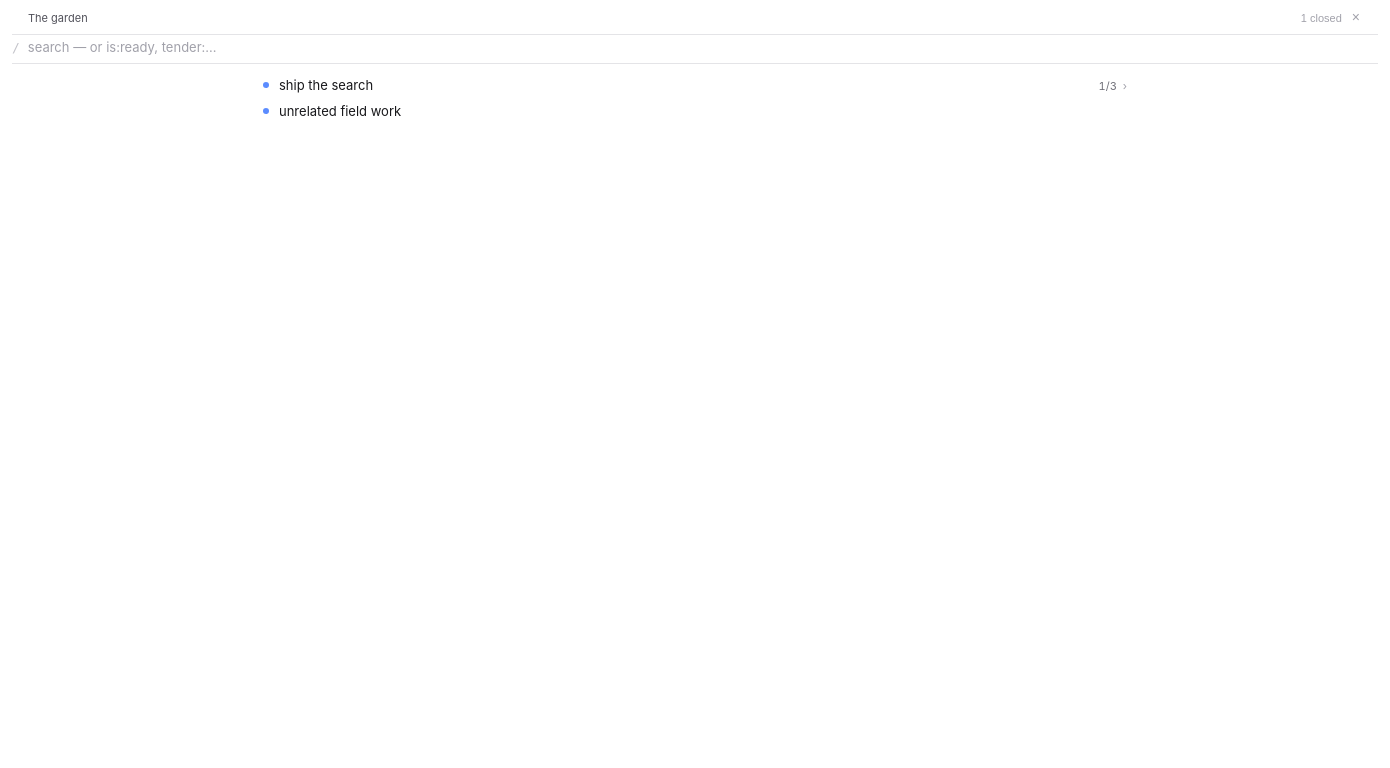
Test: GardenPanel search › scope › keeps the trail when the search widens out of the plot
The width and height of the screenshot is (1390, 768).
Click the button "ship the search 1/3 ›".
click(326, 85)  # box left=255, top=72, right=1135, bottom=98
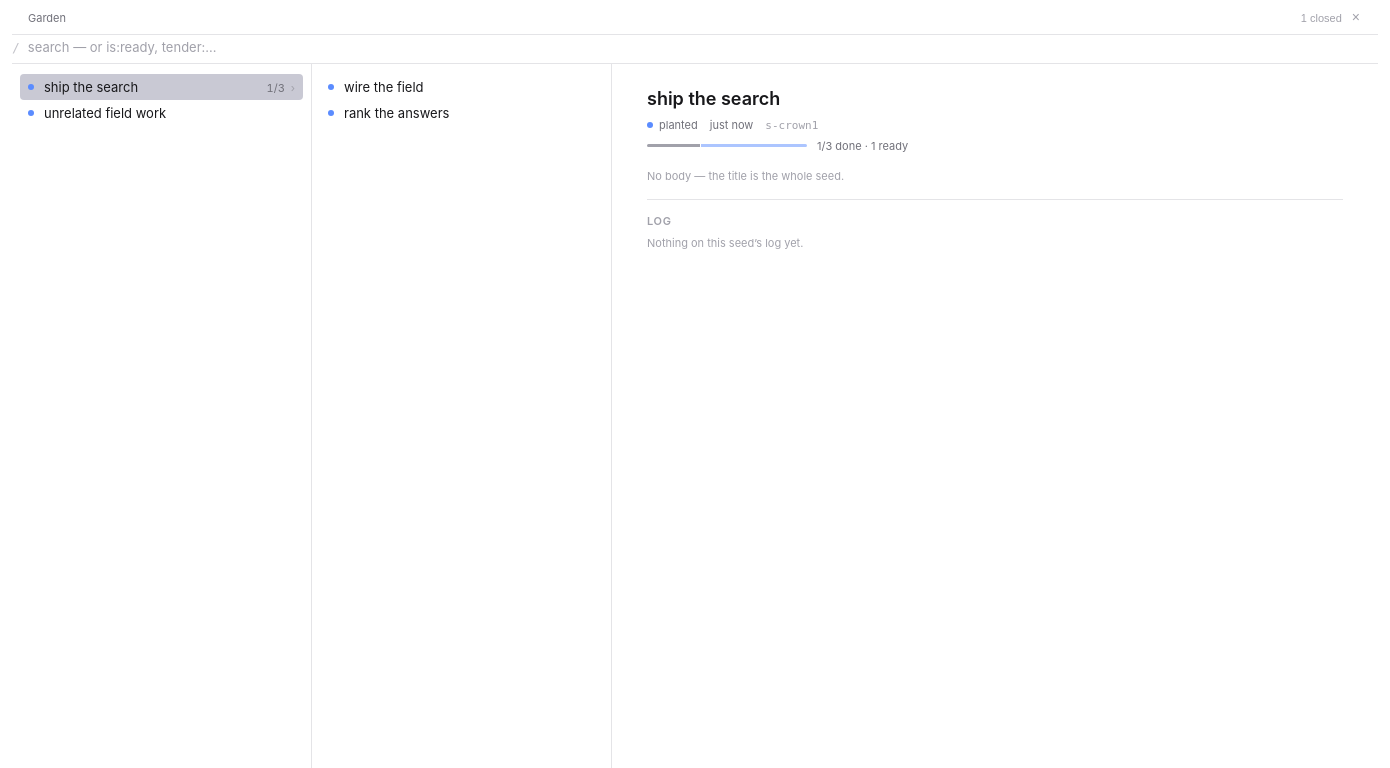
Type "field" into the dropdown.
click(699, 47); type("field")  # box left=28, top=37, right=1370, bottom=57
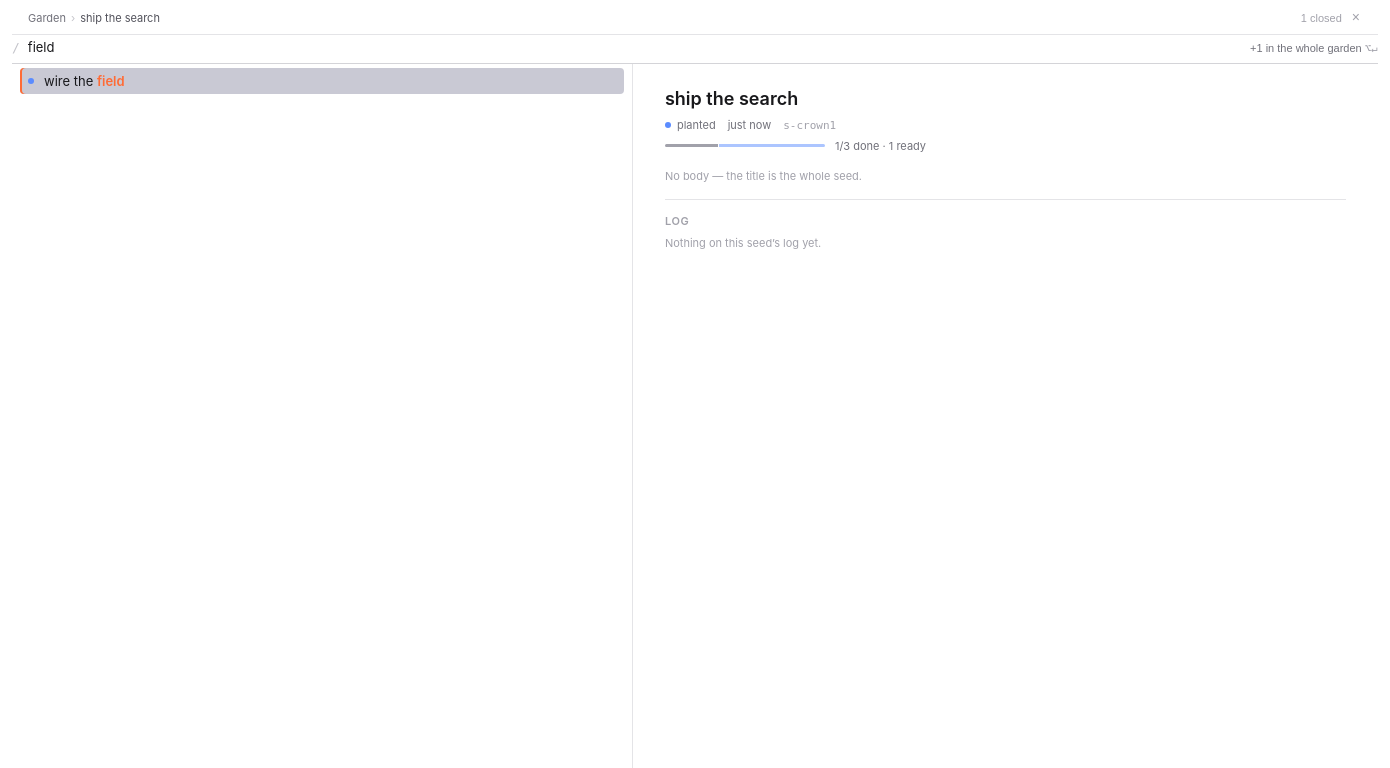
Click the button "+1 in the whole garden ⌥↵".
click(1314, 48)  # box left=1250, top=42, right=1378, bottom=55
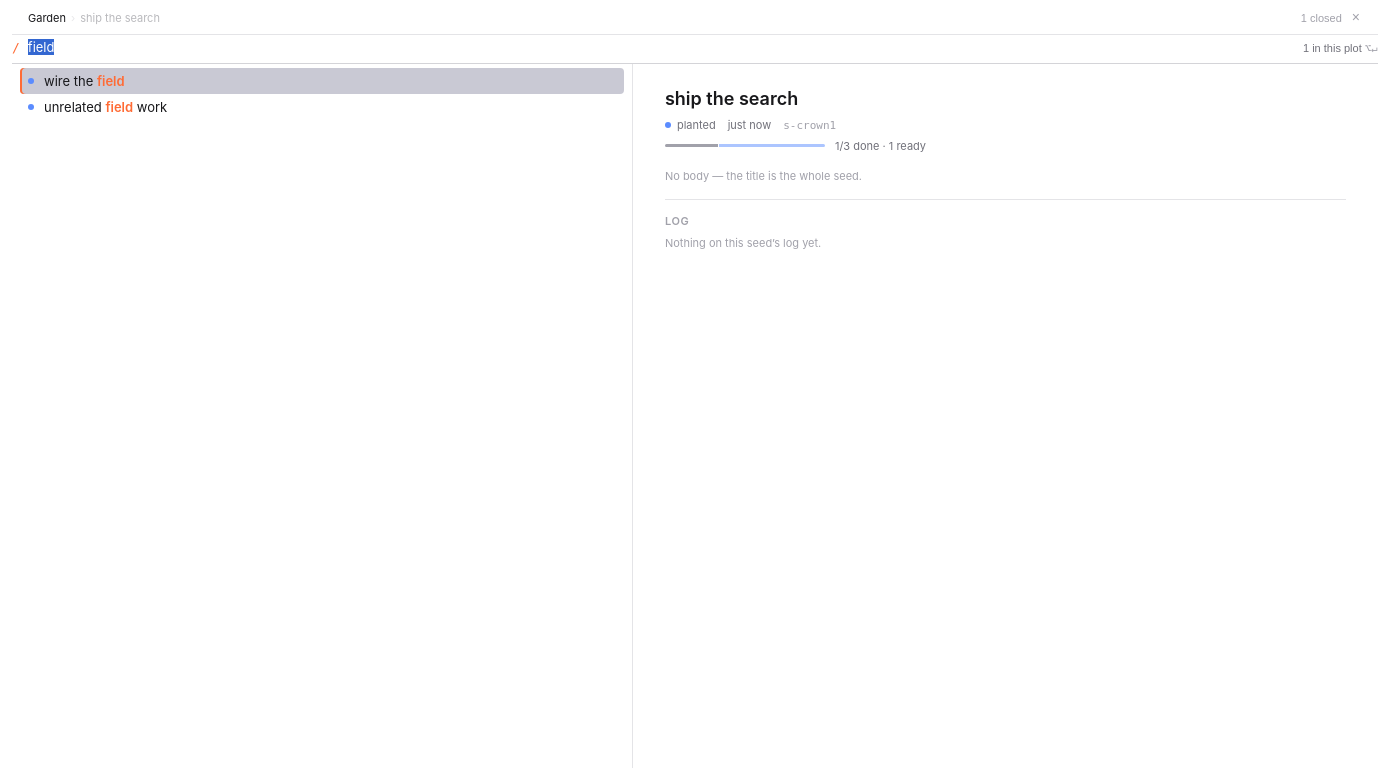
Expected: the number of options is 2, left=20, top=68, right=624, bottom=94; left=20, top=94, right=624, bottom=120
Expected: the navigation bar named "Standing here" is shown, left=28, top=11, right=160, bottom=25
Expected: the button "1 in this plot ⌥↵" is shown, left=1303, top=42, right=1378, bottom=55
